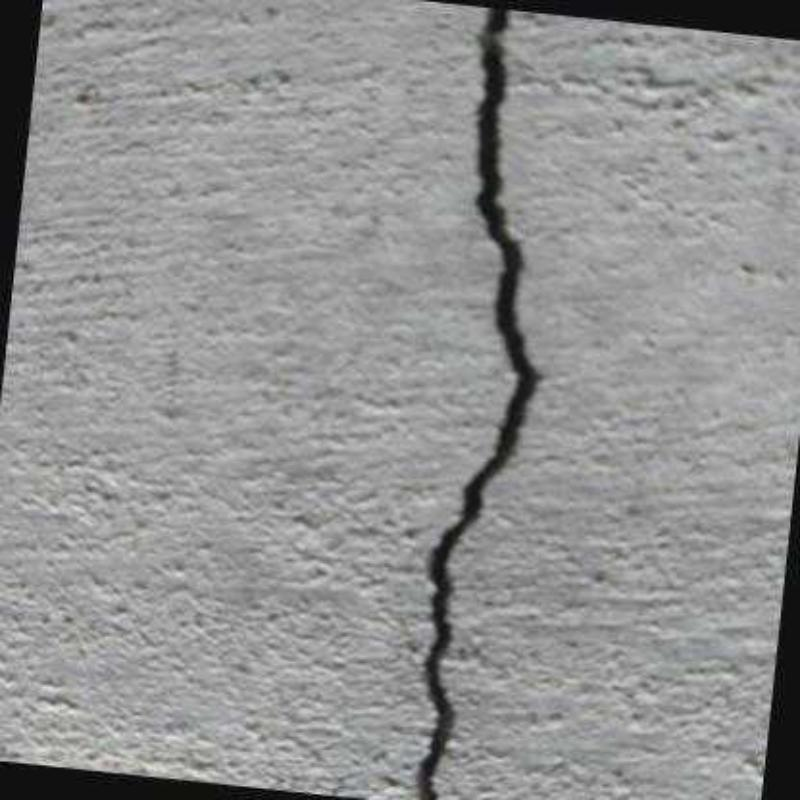crack: (413, 7, 541, 800)
